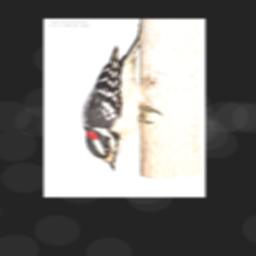Woodpecker: (81, 46, 162, 171)
